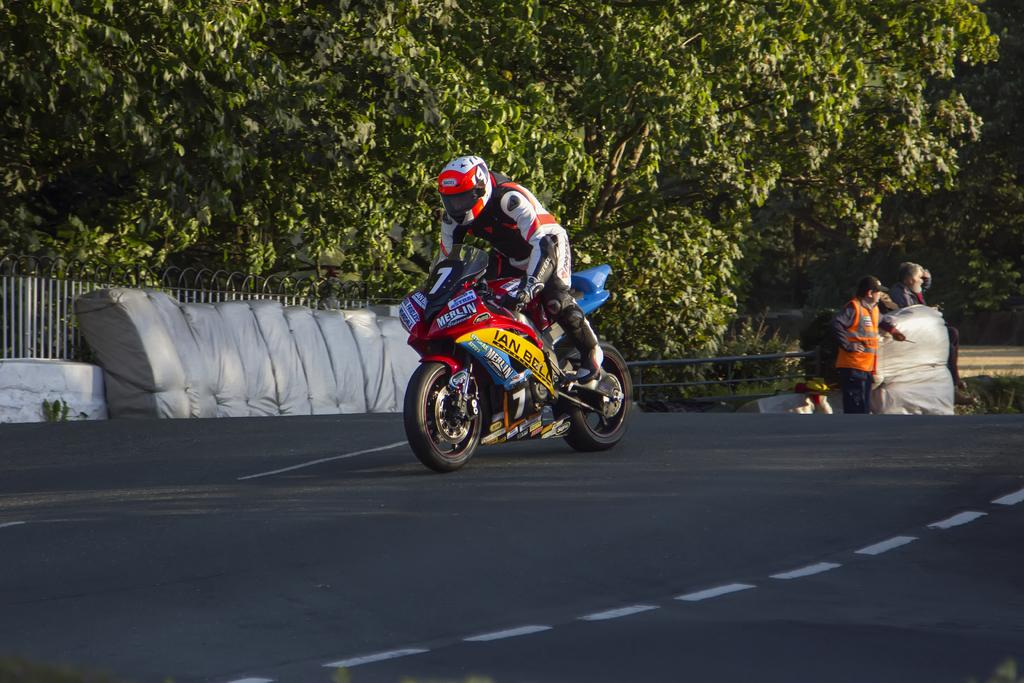helmet: (438, 155, 493, 227)
nohelmet: (857, 275, 890, 305), (897, 261, 924, 295)
